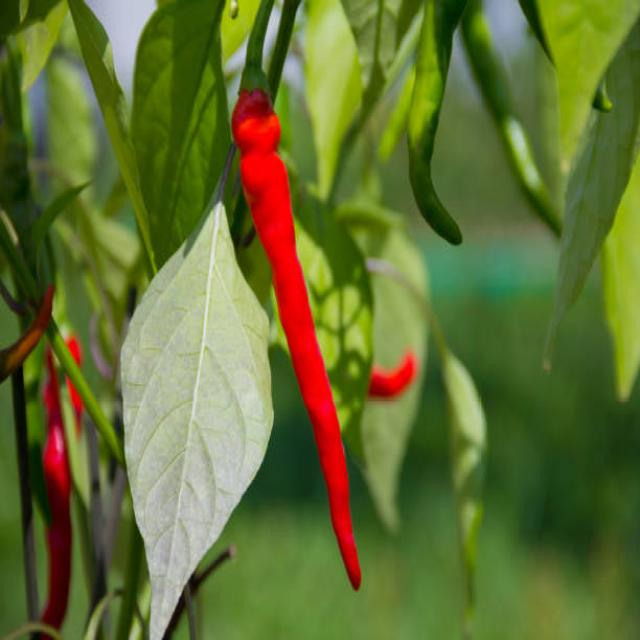Ripe: (231, 86, 362, 590)
Unripe: (408, 0, 465, 243)
